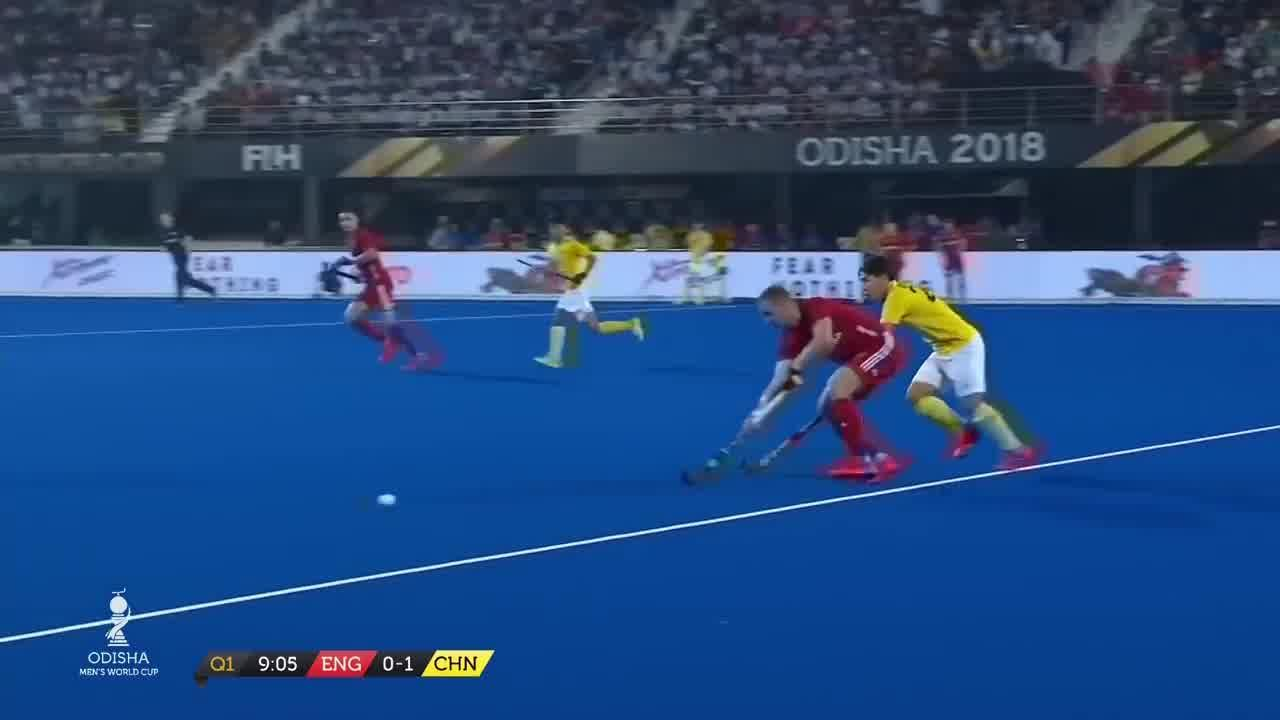ball: (376, 486, 404, 516)
